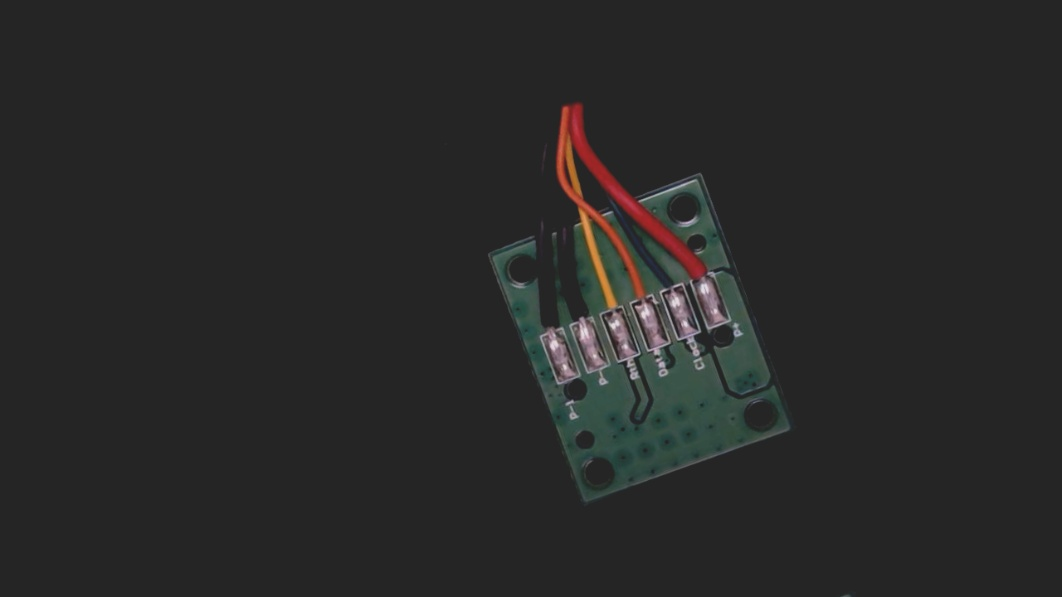Black: (554, 277, 599, 337)
Black1: (527, 295, 567, 347)
Green: (645, 253, 687, 307)
Orange: (617, 260, 660, 317)
Red: (675, 236, 718, 291)
Yellow: (587, 268, 629, 325)
